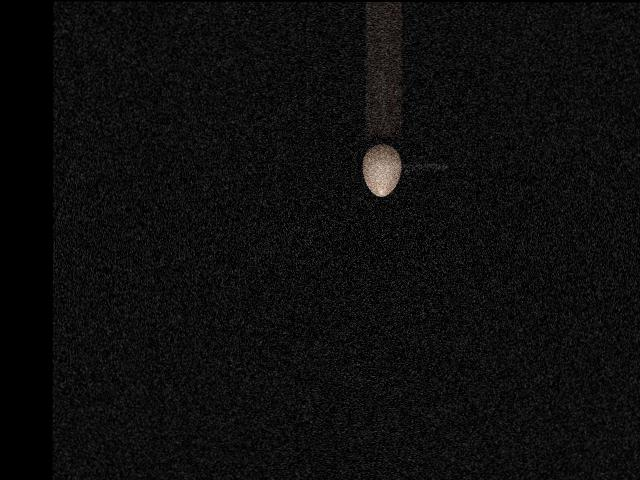egg: (362, 143, 400, 196)
